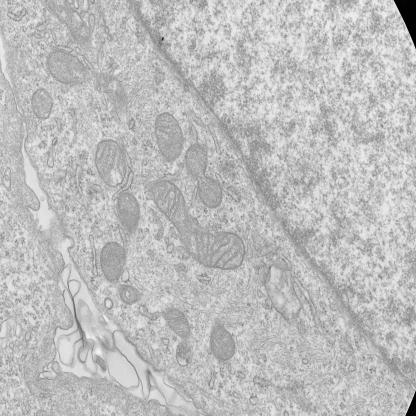mitochondria: (150, 179, 246, 270), (185, 141, 225, 207), (94, 139, 128, 189), (153, 112, 184, 163), (46, 50, 86, 84), (208, 323, 238, 362), (114, 192, 141, 234), (100, 241, 126, 283), (165, 306, 193, 340), (30, 86, 54, 122), (118, 284, 142, 306)
